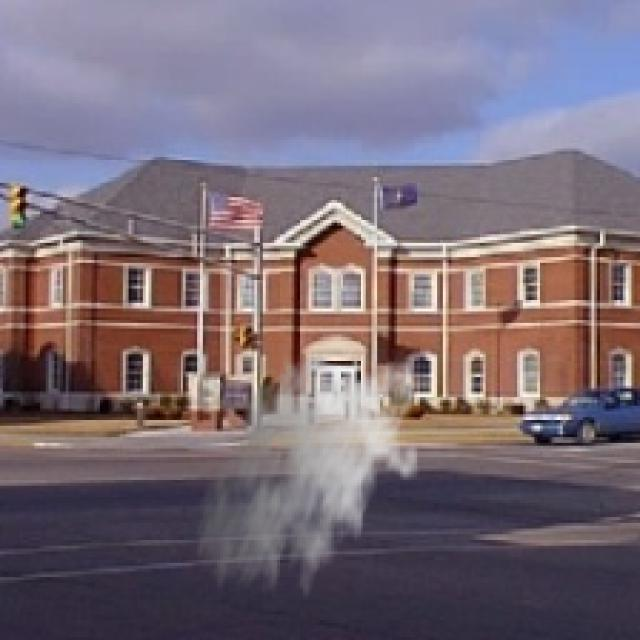smoke: (194, 343, 420, 611)
